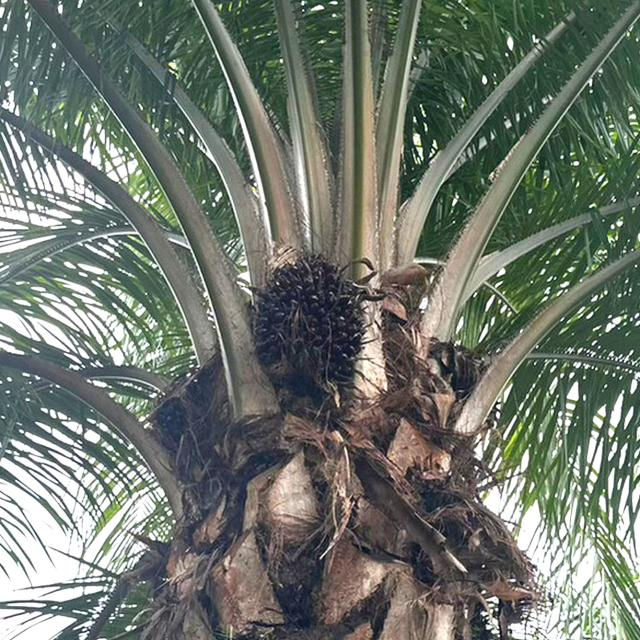almost: (248, 248, 374, 397)
